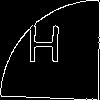H: (25, 24, 62, 72)
